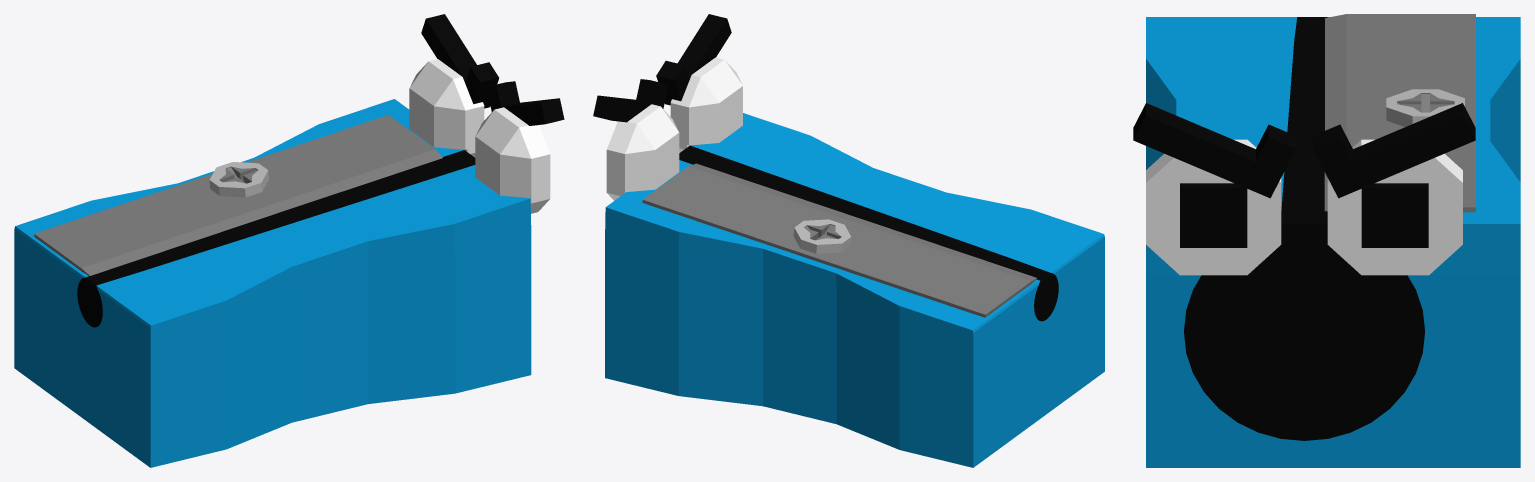
File: SharpenerVar3.fbx
The picture shows the model from 3 angles, left to right: view 1: azimuth 30°, elevation 25°; view 2: azimuth 150°, elevation 25°; view 3: azimuth 270°, elevation 25°; orthographic projection. The views are drawn at different scales.
Visible parts, largest first — view 1: SharpRed; view 2: SharpRed; view 3: SharpRed.
Part boxes in pixels (x1,y1,x2,y2): SharpRed: (14,14,564,467); SharpRed: (593,14,1104,467); SharpRed: (1133,14,1520,467).
Size of the model in its own units: 128 by 215 by 135.
